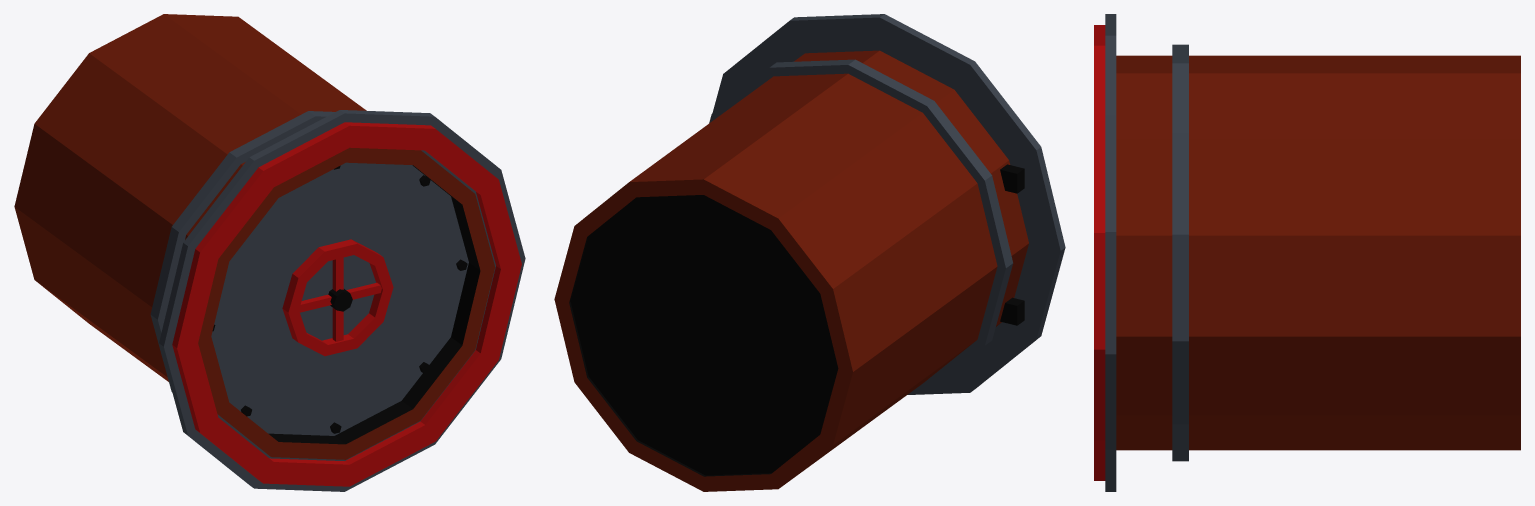
Rendered from SM_Hide_Tube_Final_Sealed.glb.
3 views of the same model, side by side, from view 1: azimuth 30°, elevation 25°; view 2: azimuth 150°, elevation 25°; view 3: azimuth 270°, elevation 25° (orthographic). The views are drawn at different scales.
Parts seen in each view (by area): view 1: SM_Hide_Tube_Final_Sealed-col; view 2: SM_Hide_Tube_Final_Sealed-col; view 3: SM_Hide_Tube_Final_Sealed-col.
Part boxes in pixels (x1,y1,x2,y2): SM_Hide_Tube_Final_Sealed-col: (14, 14, 525, 491); SM_Hide_Tube_Final_Sealed-col: (554, 14, 1065, 491); SM_Hide_Tube_Final_Sealed-col: (1094, 14, 1520, 491).
Size of the model in its own units: 3.44 by 3.44 by 3.06.
